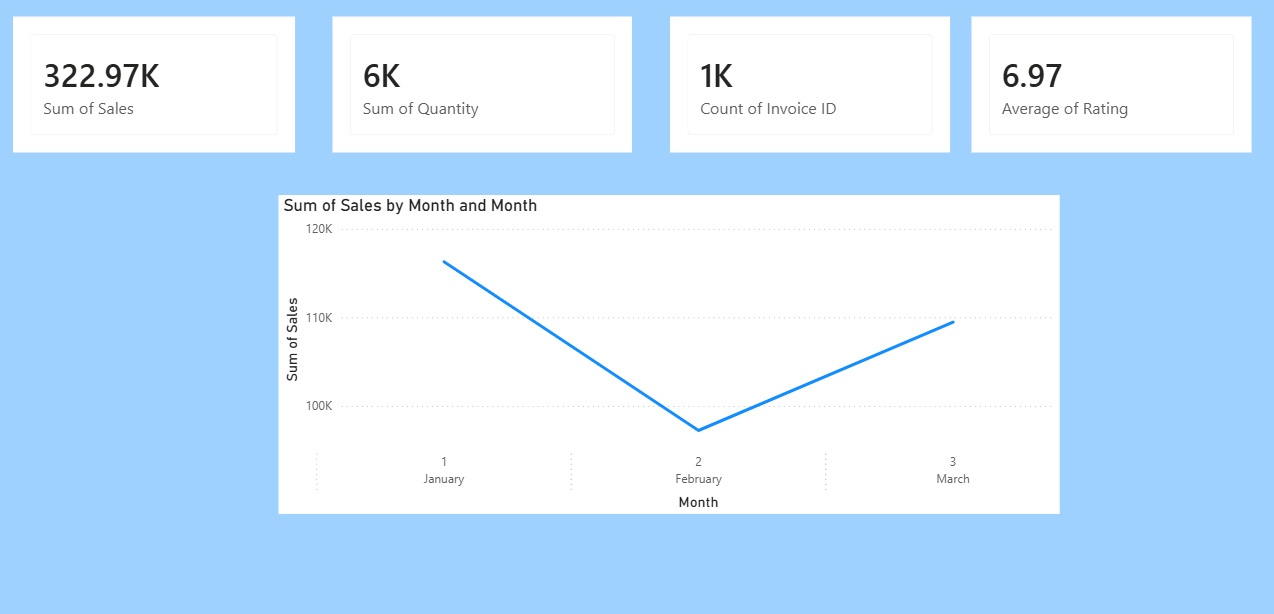

The page's visual inventory and layout, read from the dashboard file:
{"tool":"powerbi","page":{"name":"Page 1","canvas":[1280,720],"ordinal":0},"visuals":[{"type":"cardVisual","fields":{"Data":["Sum(analysis.Sales)"]},"box":[24.6,22.8,280.7,135.1],"z":0},{"type":"cardVisual","fields":{"Data":["Sum(analysis.Quantity)"]},"box":[342.1,22.8,298.2,135.1],"z":1},{"type":"cardVisual","fields":{"Data":["Avg(analysis.Rating)"]},"box":[977.2,22.8,278.9,135.1],"z":2},{"type":"cardVisual","fields":{"Data":["CountNonNull(analysis.Invoice ID)"]},"box":[677.2,22.8,278.9,135.1],"z":3},{"type":"lineChart","fields":{"Y":["Sum(analysis.Sales)"],"Category":["analysis.Date.Variation.Date Hierarchy.Month","analysis.Month"]},"box":[287.7,200,777.2,317.5],"z":4}]}

Visuals, with their boxes on the page's 1280x720 design canvas (x1, y1, x2, y2). These are canvas units, not pixel positions in the 1274x614 screenshot, which may show the page scaled, cropped or inside an application window:
cardVisual - Sum(analysis.Sales): {"x1": 25, "y1": 23, "x2": 305, "y2": 158}
cardVisual - Sum(analysis.Quantity): {"x1": 342, "y1": 23, "x2": 640, "y2": 158}
cardVisual - Avg(analysis.Rating): {"x1": 977, "y1": 23, "x2": 1256, "y2": 158}
cardVisual - CountNonNull(analysis.Invoice ID): {"x1": 677, "y1": 23, "x2": 956, "y2": 158}
lineChart - Sum(analysis.Sales) x analysis.Date.Variation.Date Hierarchy.Month: {"x1": 288, "y1": 200, "x2": 1065, "y2": 518}
